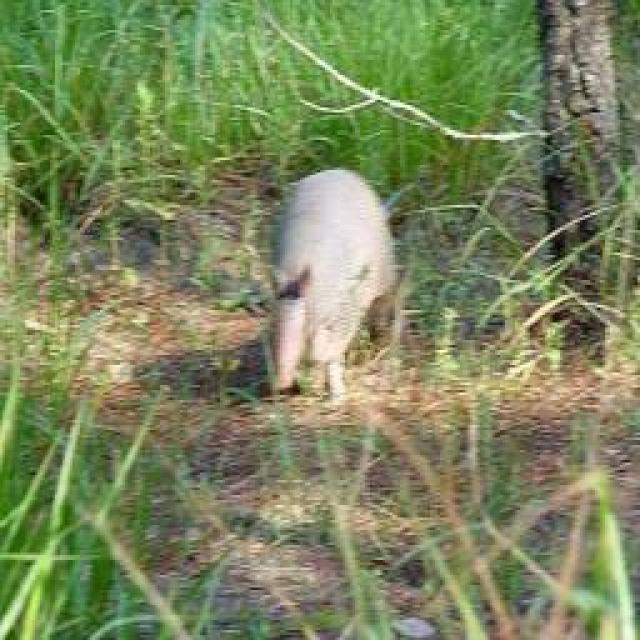not_pig: (268, 165, 402, 403)
